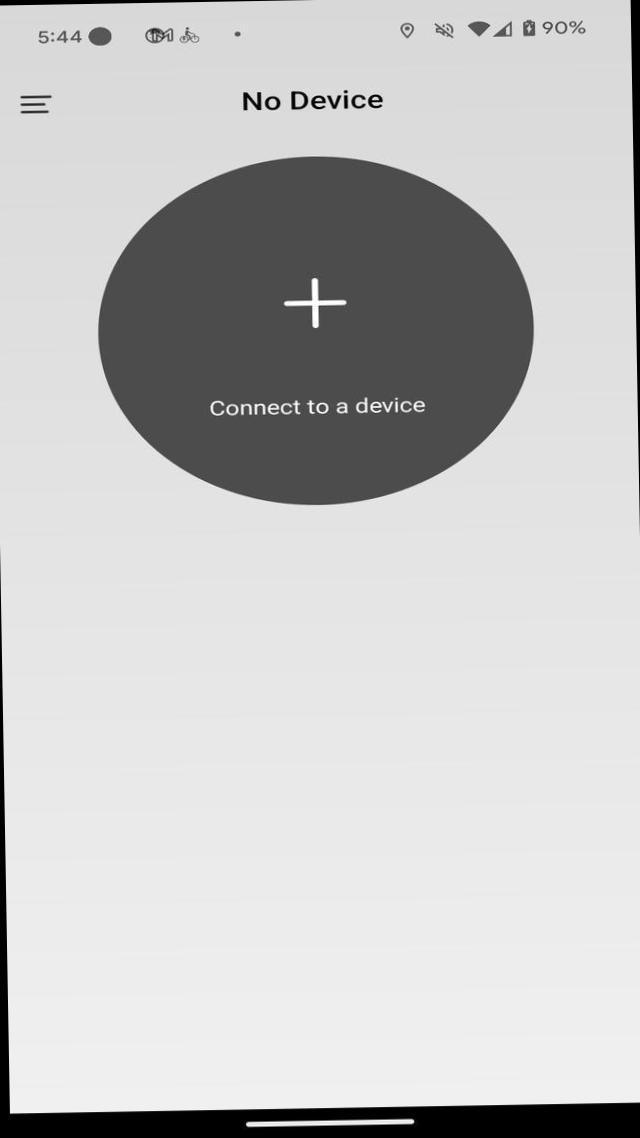Icon: (282, 274, 352, 329), (11, 84, 56, 122), (142, 22, 176, 48), (430, 18, 458, 40), (86, 26, 112, 48), (490, 20, 516, 40), (466, 18, 489, 40), (520, 15, 538, 42), (179, 25, 200, 47), (400, 23, 416, 45), (226, 25, 246, 40)
Text: (205, 390, 432, 430), (234, 80, 394, 123), (542, 15, 592, 40), (36, 26, 82, 48)
